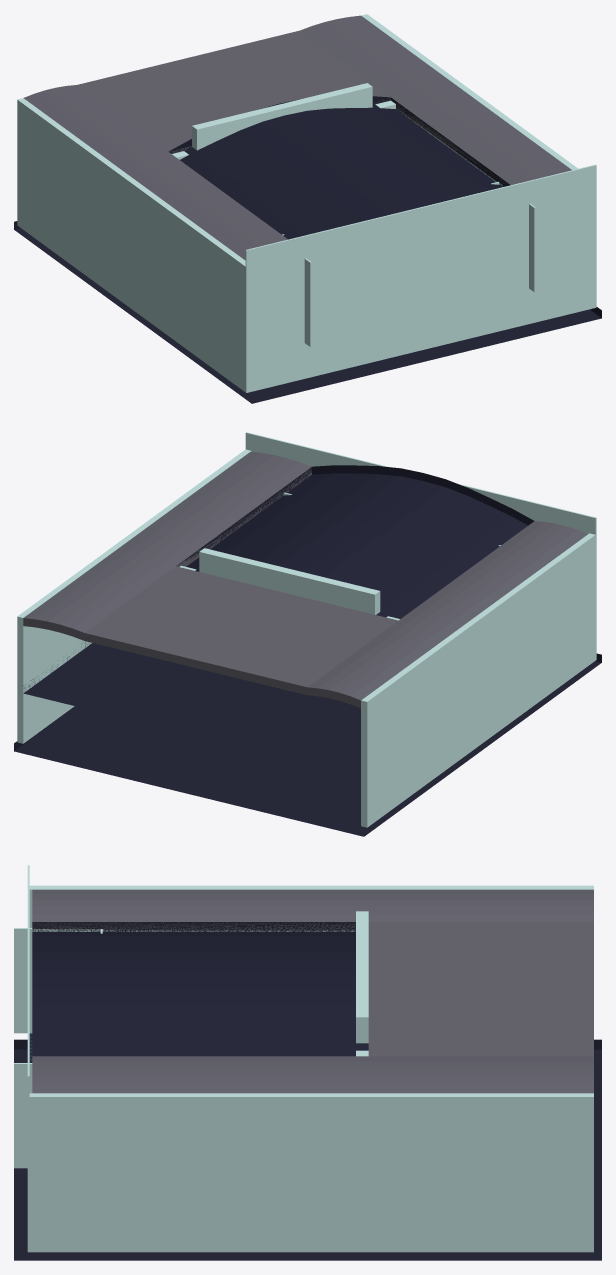
Rendered from Foro.fbx.
3 views of the same model, one above another, from view 1: azimuth 30°, elevation 25°; view 2: azimuth 150°, elevation 25°; view 3: azimuth 270°, elevation 25° (orthographic). The views are drawn at different scales.
Parts seen in each view (by area): view 1: Paredes; view 2: Paredes; view 3: Paredes.
Part boxes in pixels (box(x1,y1,x2,y2)): Paredes: box(14, 14, 601, 403); Paredes: box(14, 432, 601, 836); Paredes: box(14, 865, 601, 1260).
Bounding box in the file's own units: 4560 × 1910 × 5368.
